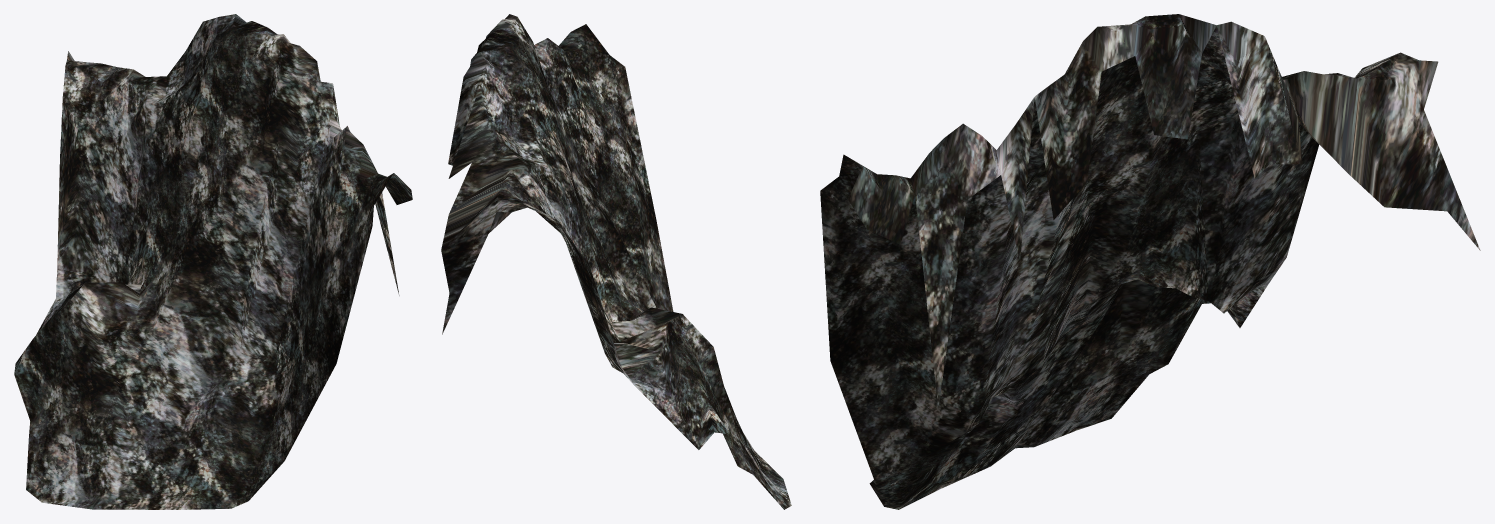
Rendered from OVERHILL_A_01_OBJECT379.fbx.
3 views of the same model, side by side, from view 1: azimuth 30°, elevation 25°; view 2: azimuth 150°, elevation 25°; view 3: azimuth 270°, elevation 25° (orthographic). The views are drawn at different scales.
Visible parts, largest first — view 1: OVERHILL_A_01_OBJECT379; view 2: OVERHILL_A_01_OBJECT379; view 3: OVERHILL_A_01_OBJECT379.
Boxes of the visible parts, x1,y1,x2,y2 form: OVERHILL_A_01_OBJECT379: (14,14,412,509); OVERHILL_A_01_OBJECT379: (441,14,791,509); OVERHILL_A_01_OBJECT379: (820,14,1480,509).
Size of the model in its own units: 285274 by 344030 by 355573.
1 material, 1 textured.
